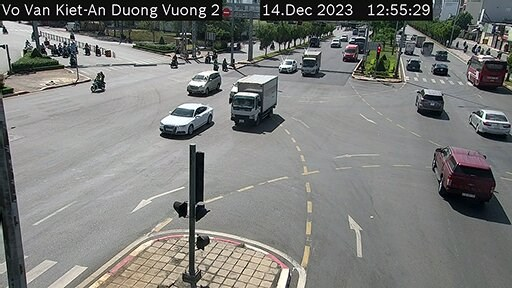car: (435, 145, 495, 199), (159, 99, 215, 139), (465, 48, 510, 93), (470, 101, 511, 137), (185, 68, 217, 95), (413, 87, 444, 114), (276, 57, 296, 72)
truck: (229, 68, 284, 131), (302, 50, 327, 78)
